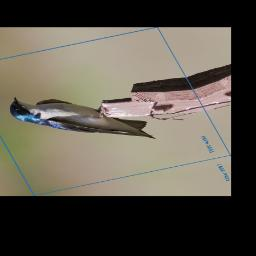Swallow: (2, 75, 159, 164)
